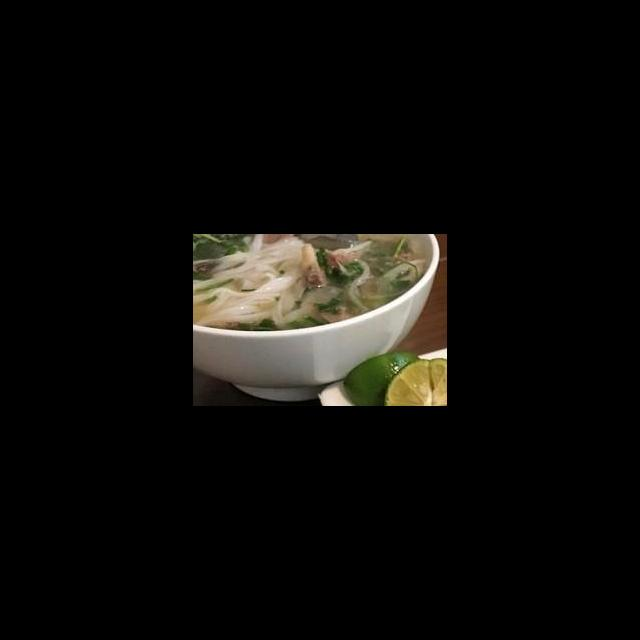banh pho: (194, 235, 303, 332)
